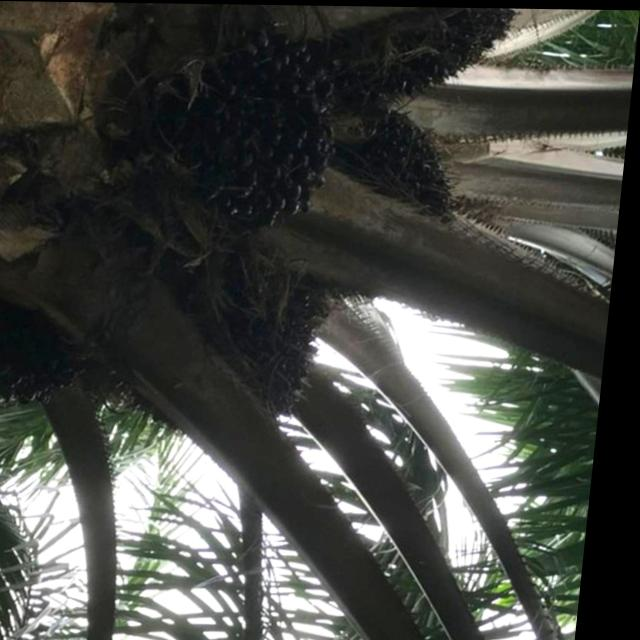almost: (176, 28, 349, 232), (143, 275, 334, 438), (342, 107, 477, 295), (353, 4, 525, 104)
